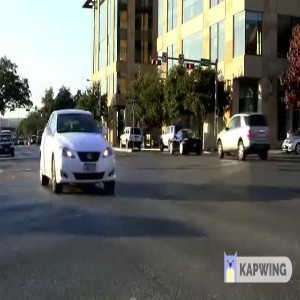car: (36, 109, 125, 192), (165, 126, 207, 155)
suv: (211, 110, 276, 160), (118, 125, 147, 148)
